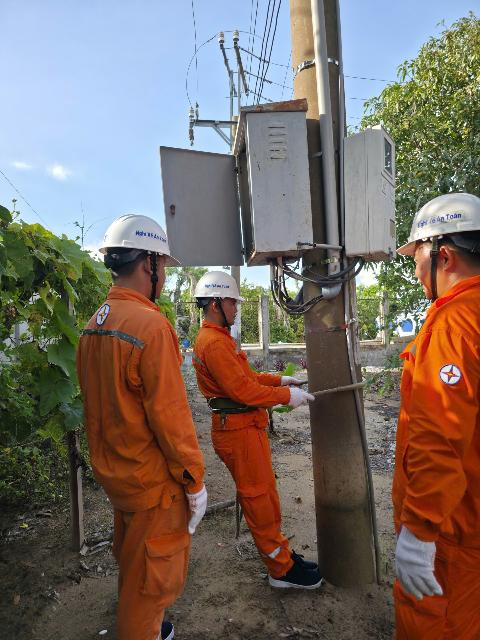gloves: (378, 520, 453, 601), (162, 480, 229, 544), (275, 386, 318, 411), (283, 366, 304, 405)
helmet: (408, 185, 480, 254), (102, 204, 179, 264), (186, 253, 263, 308)
shoes: (280, 548, 327, 575), (270, 571, 326, 590)
